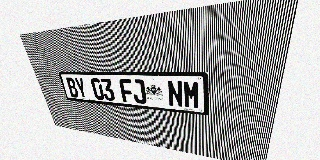0: (90, 78, 105, 100)
3: (100, 78, 115, 101)
B: (65, 77, 79, 98)
F: (119, 79, 134, 103)
J: (131, 79, 147, 104)
M: (183, 80, 200, 109)
N: (167, 80, 183, 108)
Y: (74, 78, 88, 99)
